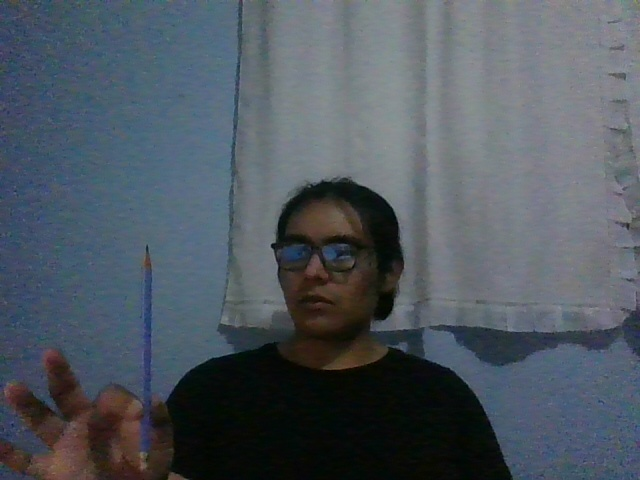lapiz: (139, 243, 153, 472)
